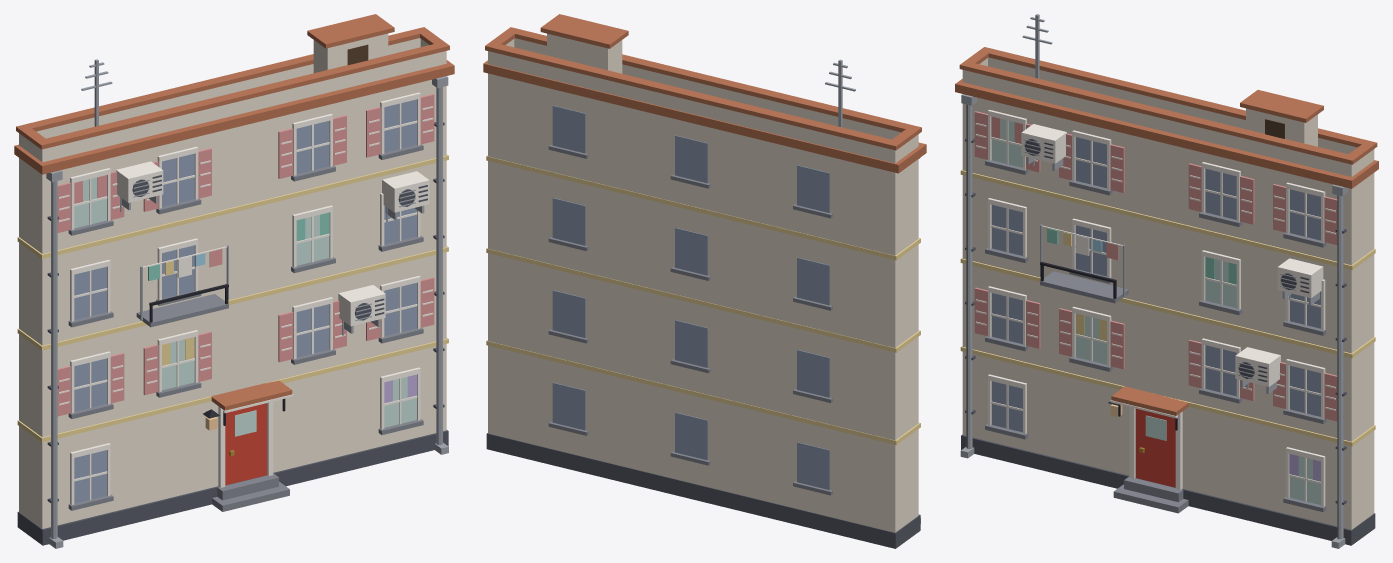
Rendered from CatCafe_Alley_Building_Apartments.glb.
3 renders of one model, left to right at view 1: azimuth 30°, elevation 25°; view 2: azimuth 150°, elevation 25°; view 3: azimuth 330°, elevation 25°, orthographic. The views are drawn at different scales.
Parts seen in each view (by area): view 1: CatCafe_Alley_Building_Apartments, CatCafe_Alley_Building_Apartments_Pane; view 2: CatCafe_Alley_Building_Apartments; view 3: CatCafe_Alley_Building_Apartments, CatCafe_Alley_Building_Apartments_Pane.
Boxes of the visible parts, x1,y1,x2,y2 form: CatCafe_Alley_Building_Apartments: [14, 14, 454, 548]; CatCafe_Alley_Building_Apartments_Pane: [74, 177, 416, 427]; CatCafe_Alley_Building_Apartments: [483, 14, 926, 548]; CatCafe_Alley_Building_Apartments: [955, 14, 1378, 548]; CatCafe_Alley_Building_Apartments_Pane: [991, 119, 1320, 504].
Size of the model in its own units: 30.6 by 32.6 by 5.1.
1 material, 1 textured.
